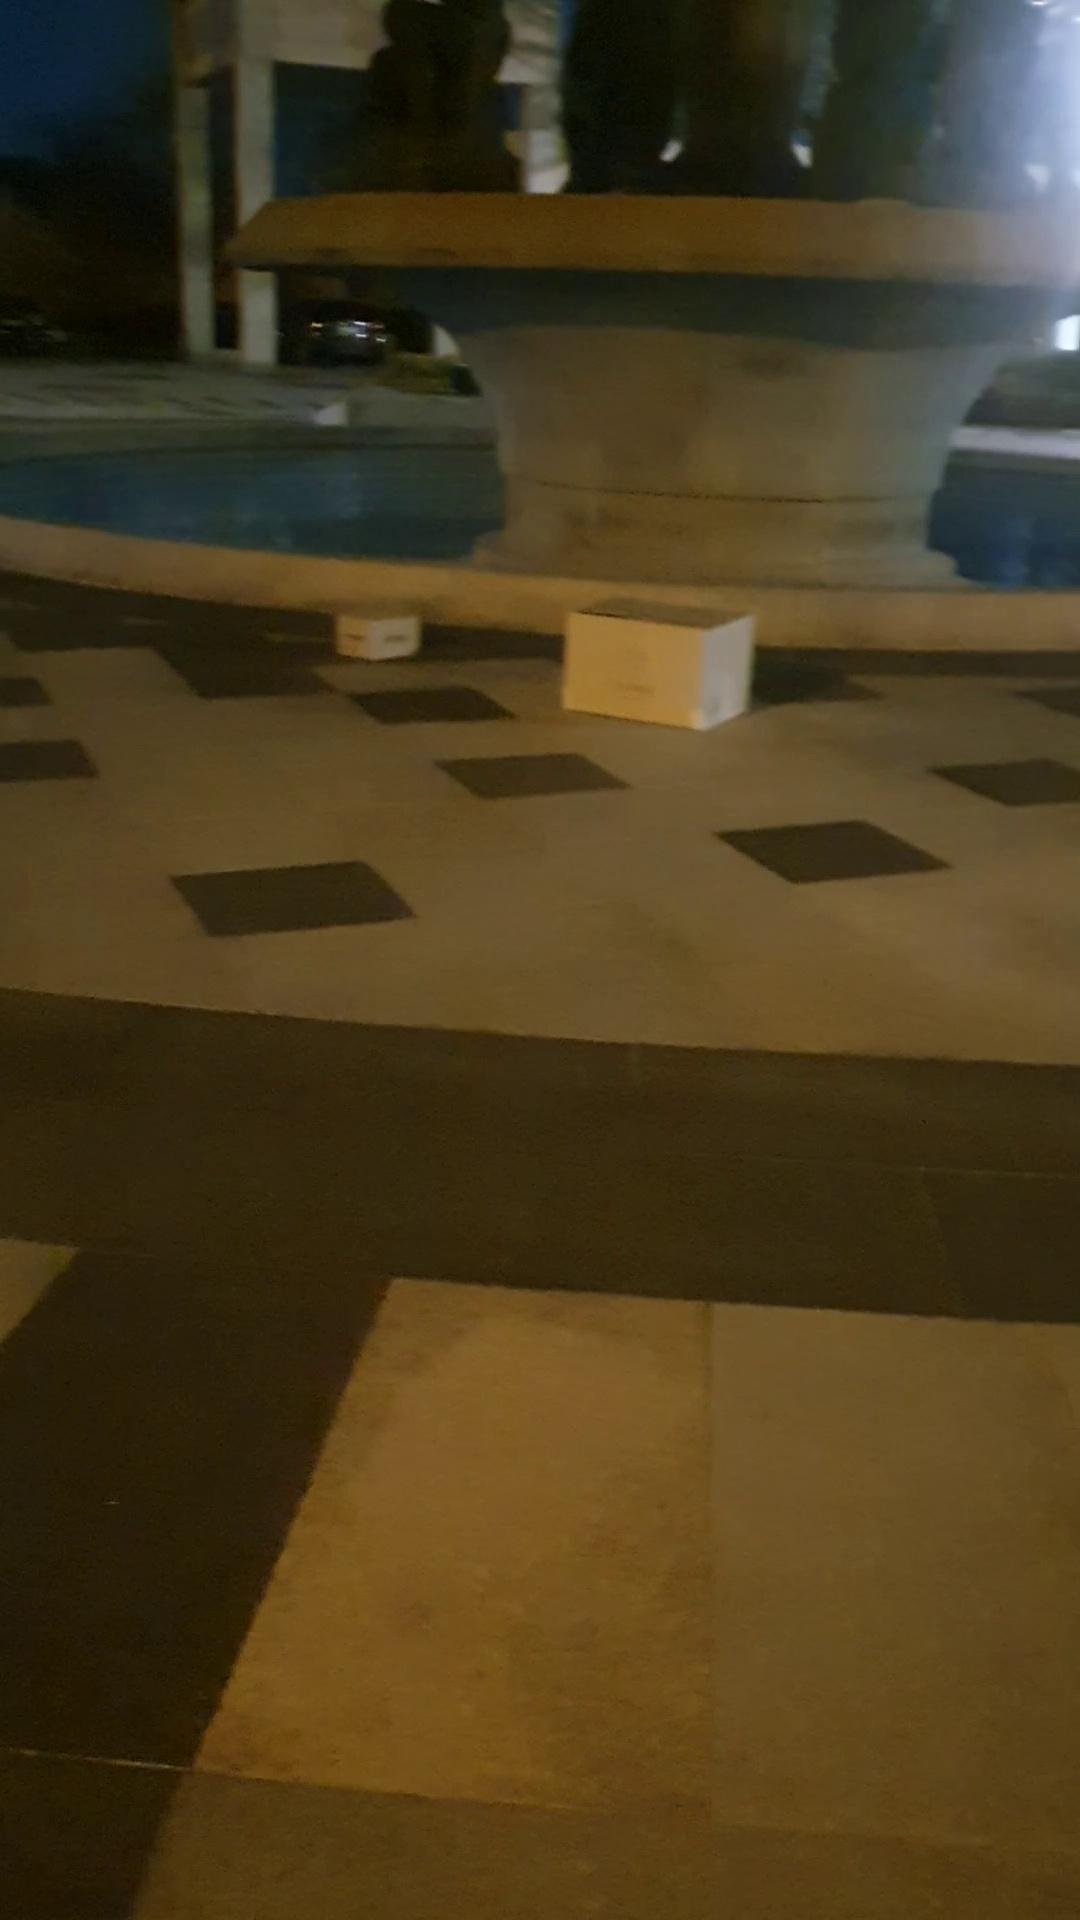Box: (556, 597, 765, 735), (342, 595, 425, 675)
